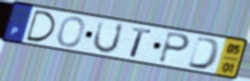D: (185, 35, 222, 72), (25, 8, 57, 43)
O: (55, 16, 86, 49)
P: (157, 30, 192, 65)
T: (129, 26, 153, 60)
U: (91, 19, 126, 55)
